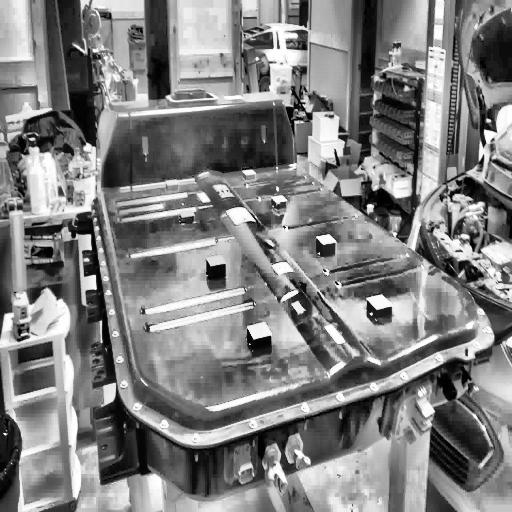b_casing: (90, 90, 495, 448)
nut: (119, 378, 130, 392), (477, 303, 486, 318), (115, 354, 126, 366), (472, 339, 482, 352), (159, 418, 169, 430), (300, 402, 309, 415), (108, 305, 116, 319), (249, 418, 258, 430), (484, 324, 493, 335), (336, 391, 344, 403), (370, 381, 378, 393), (134, 402, 142, 412), (192, 432, 200, 442), (400, 370, 408, 380), (436, 353, 444, 363), (112, 329, 120, 339), (102, 274, 110, 284), (105, 289, 112, 297), (100, 260, 107, 268), (98, 246, 104, 255), (94, 224, 100, 233), (96, 234, 102, 242), (93, 216, 98, 222)
